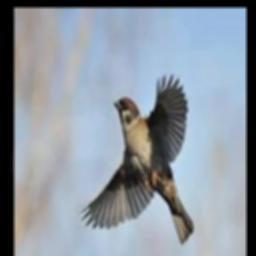Sparrow: (79, 72, 192, 244)
